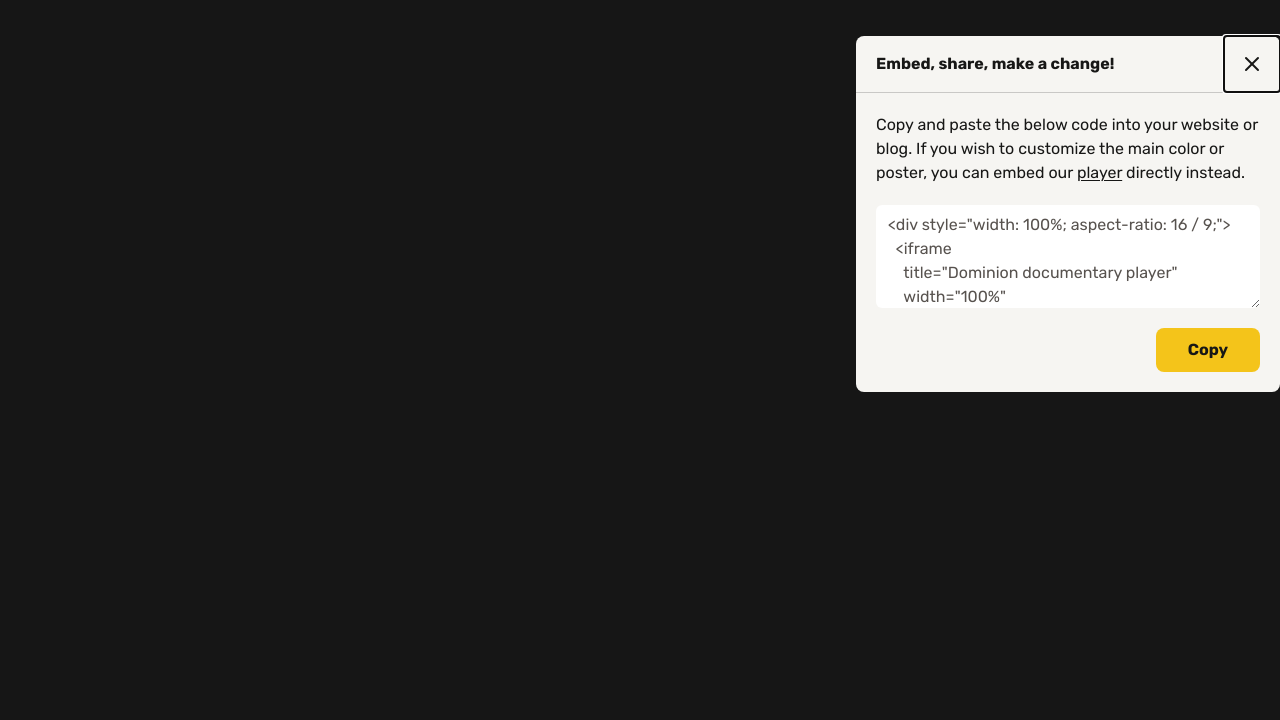
Test: Dialog › copies the embed code and confirms
The image size is (1280, 720).
What coordinates should you click on to do the following:
click the button "Copy"
I would click on:
 (1208, 350)
Its box is [1156,328,1260,372].
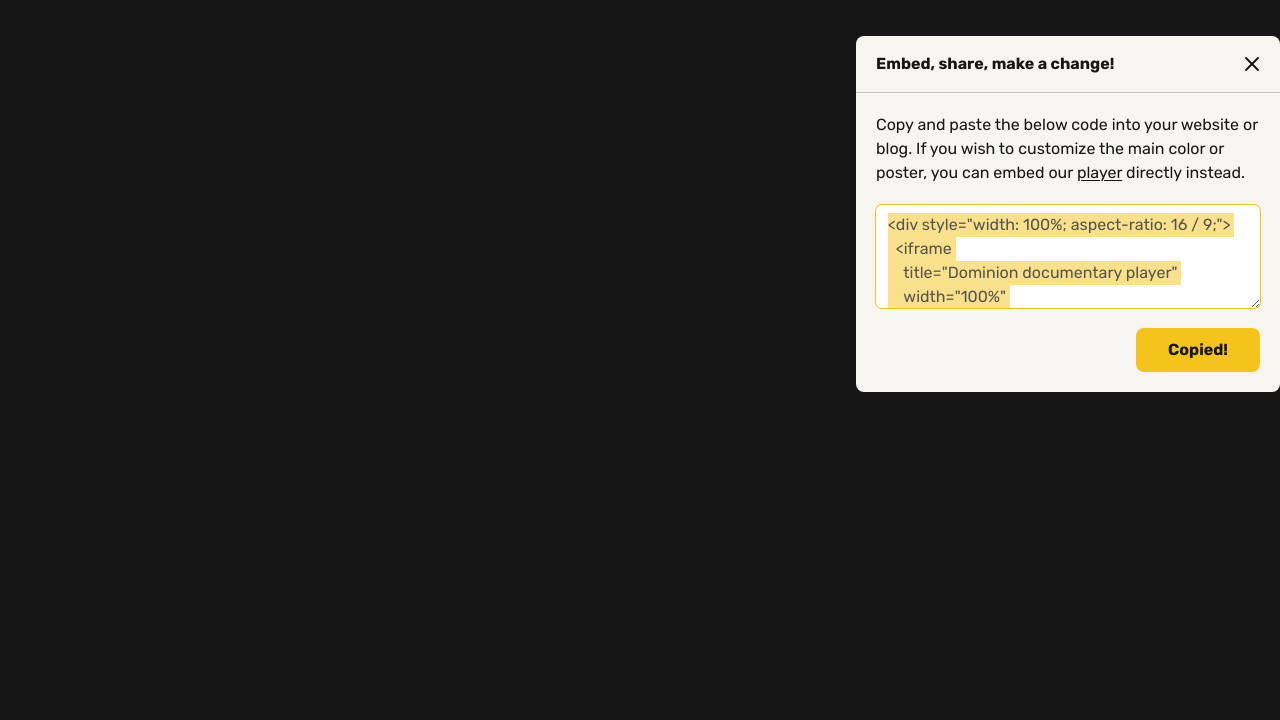
Check: the button "Copied!" is shown, box [1136,328,1260,372]
